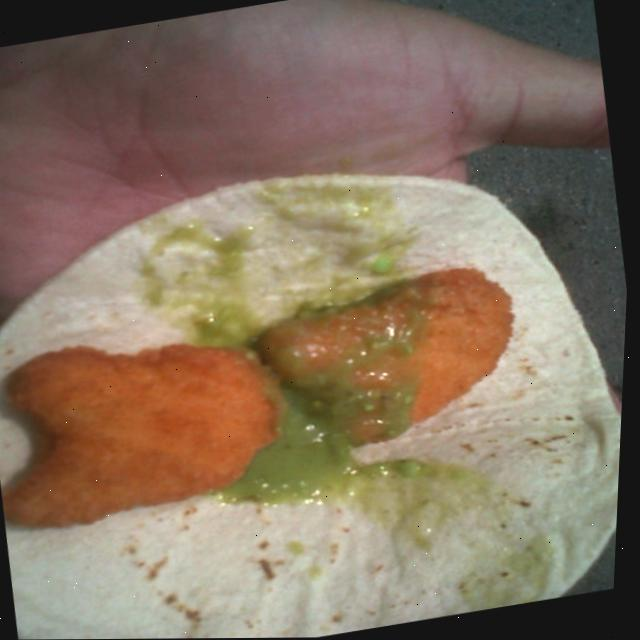面包点心: (0, 78, 637, 640)
